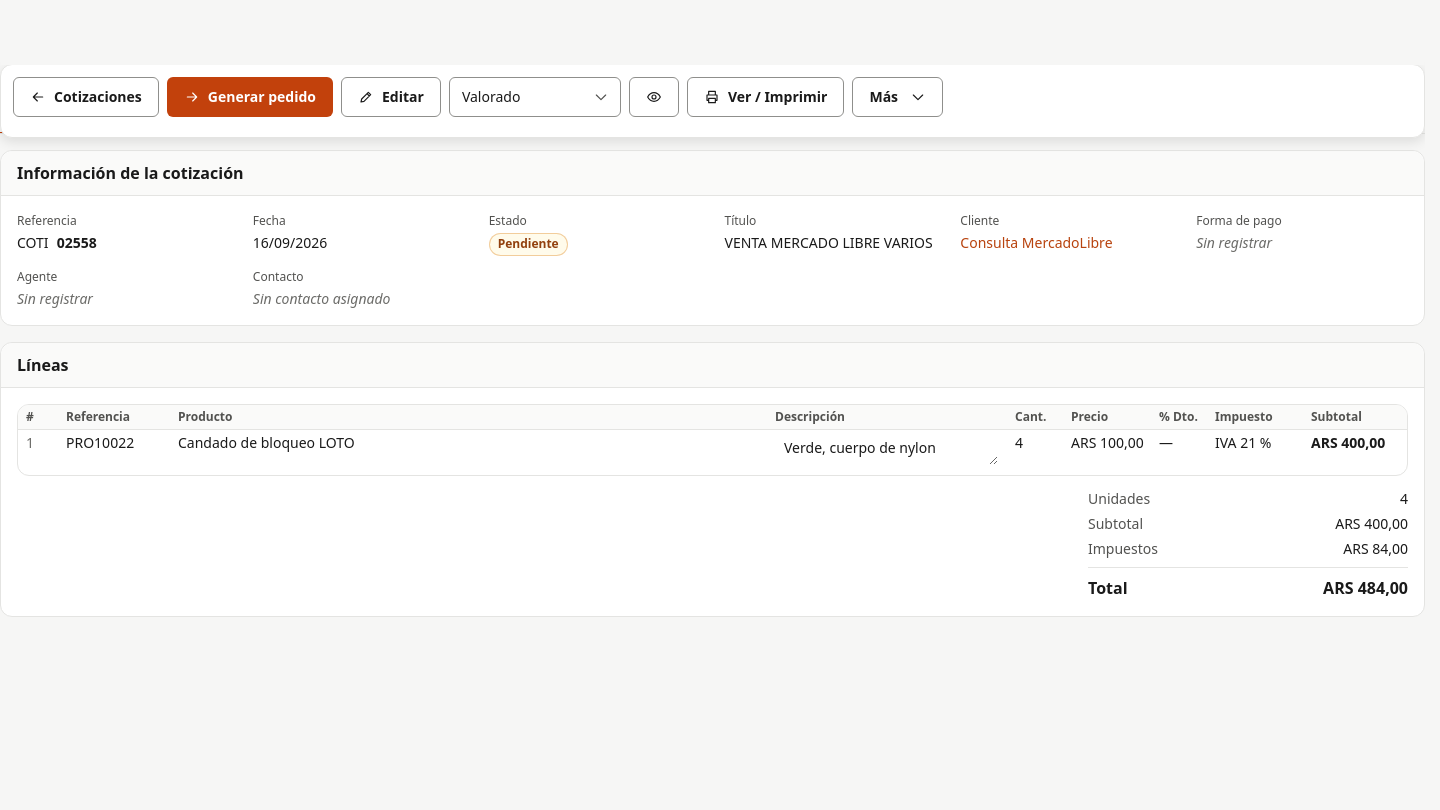
Scenario: Cotización · acciones › no se marca aceptada a mano: la deriva el pedido
Click the button "Más" at (898, 97), box [852,77,943,117]
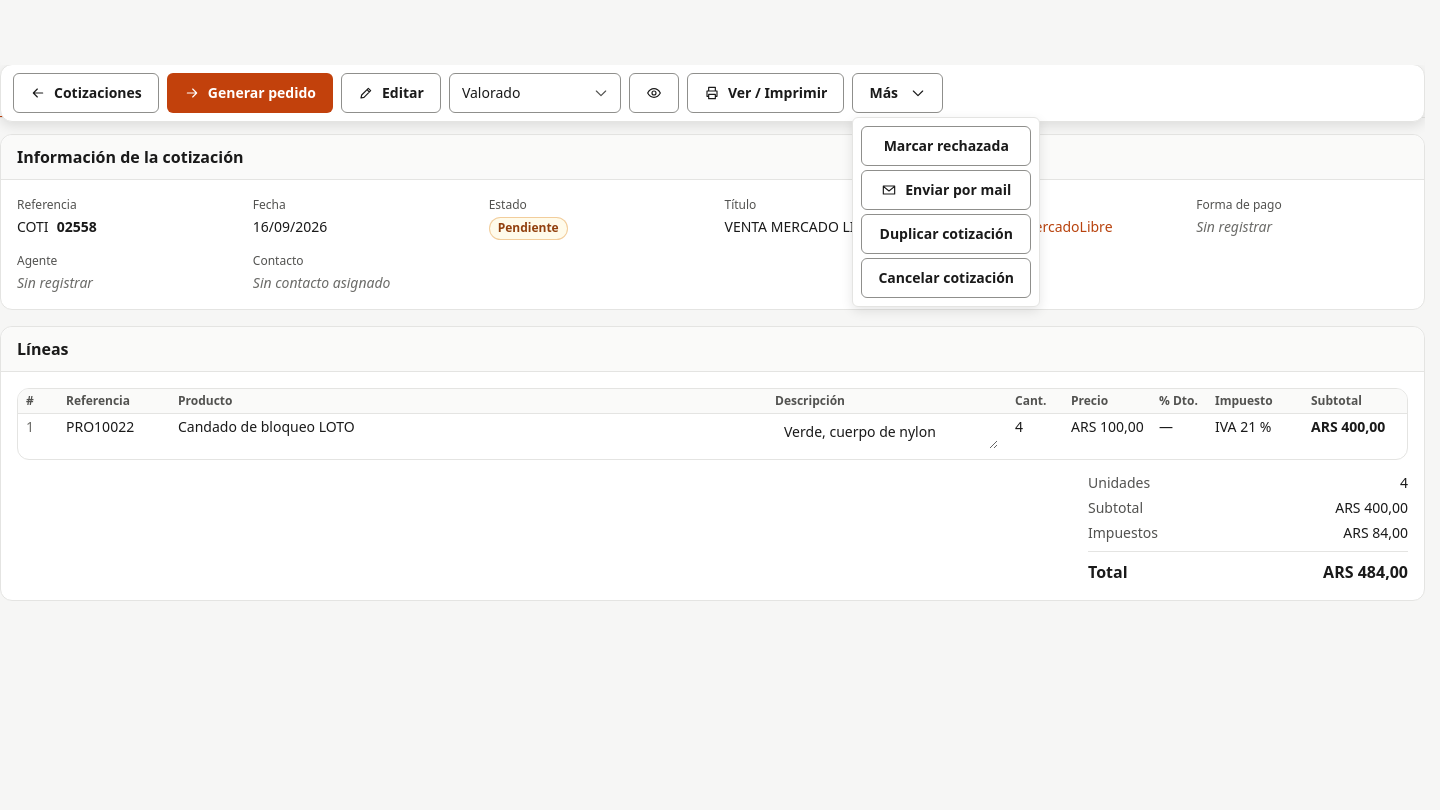
Now the button "Marcar rechazada" is shown, box [862,126,1031,166]
